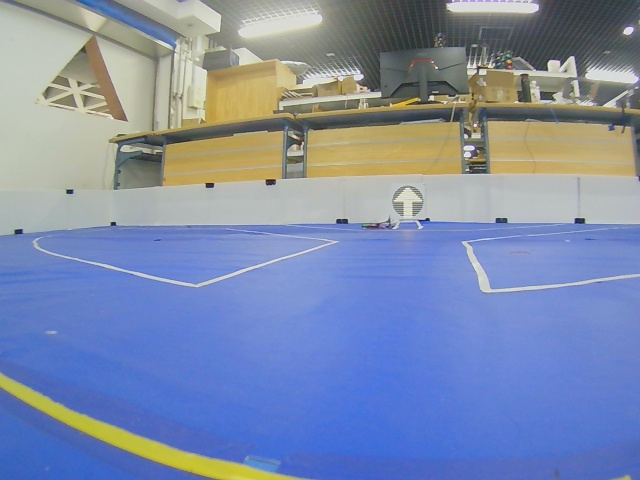straight_yellow: (392, 186, 424, 228)
